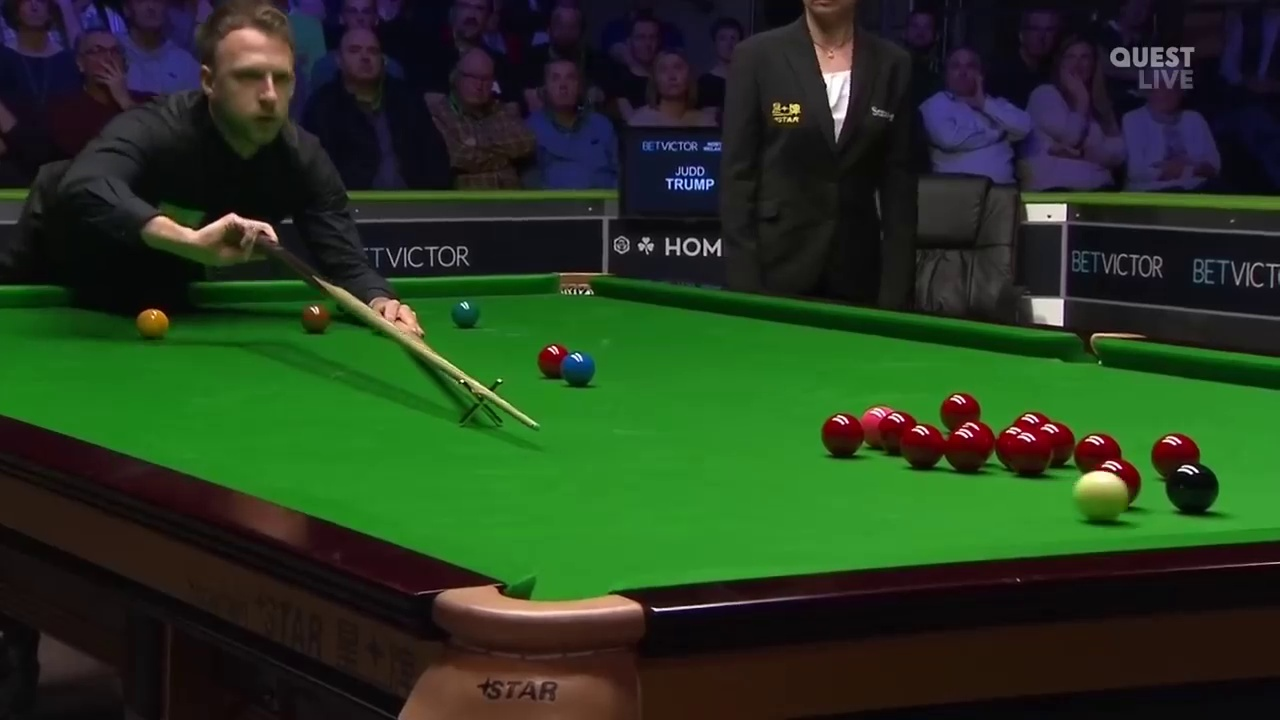black: (1164, 465, 1218, 514)
blue: (563, 350, 595, 384)
brown: (301, 303, 330, 329)
green: (449, 298, 481, 329)
red: (944, 426, 990, 472), (1009, 426, 1050, 474), (823, 413, 862, 458), (900, 425, 940, 466)
white: (1075, 474, 1127, 526)
yellow: (133, 307, 173, 338)
